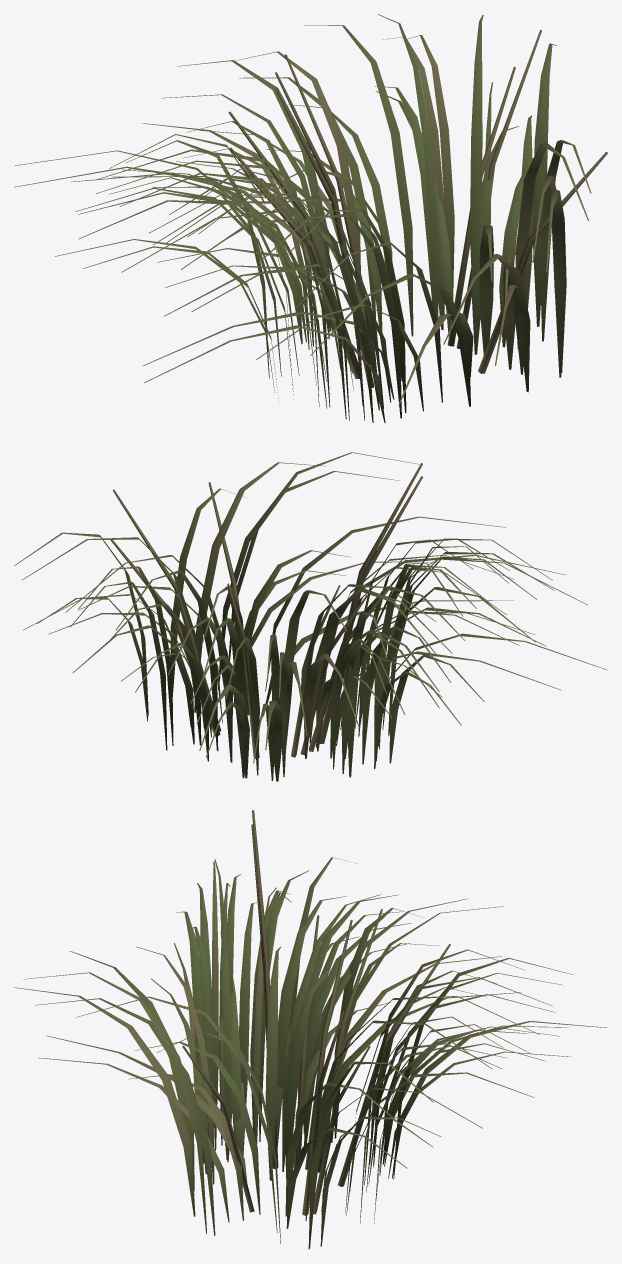
File: tussock.glb
The picture shows the model from 3 angles, top to bottom: view 1: azimuth 30°, elevation 25°; view 2: azimuth 150°, elevation 25°; view 3: azimuth 270°, elevation 25°; orthographic projection. The views are drawn at different scales.
Parts seen in each view (by area): view 1: RF07 tussock; view 2: RF07 tussock; view 3: RF07 tussock.
Boxes of the visible parts, box(x1,y1,x2,y2) form: RF07 tussock: box(14, 14, 607, 422); RF07 tussock: box(14, 452, 607, 781); RF07 tussock: box(14, 810, 607, 1249).
Size of the model in its own units: 1.02 by 0.6109 by 1.05.
